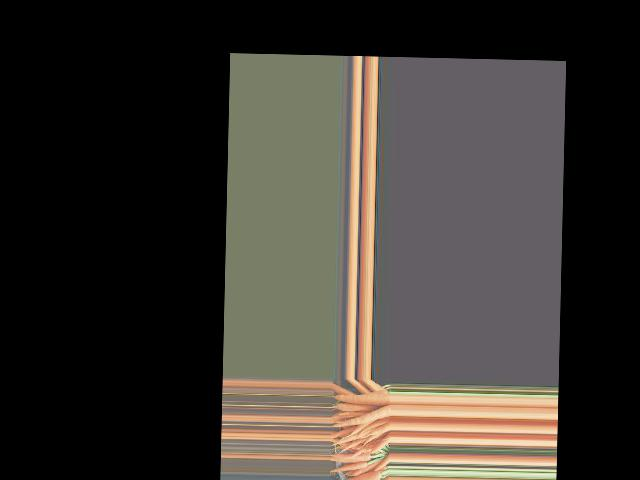carrot: (348, 471, 382, 480)
